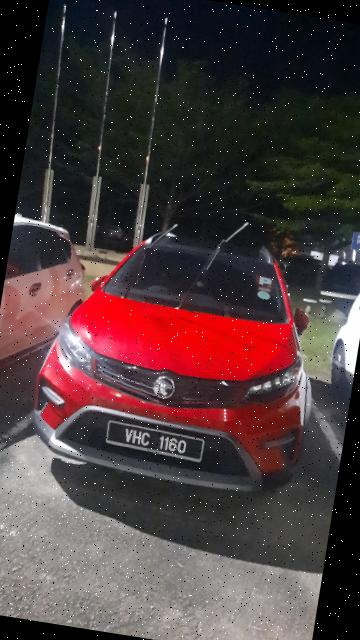License_Plate: (103, 417, 209, 467)
car: (20, 214, 338, 505), (1, 205, 101, 400)
